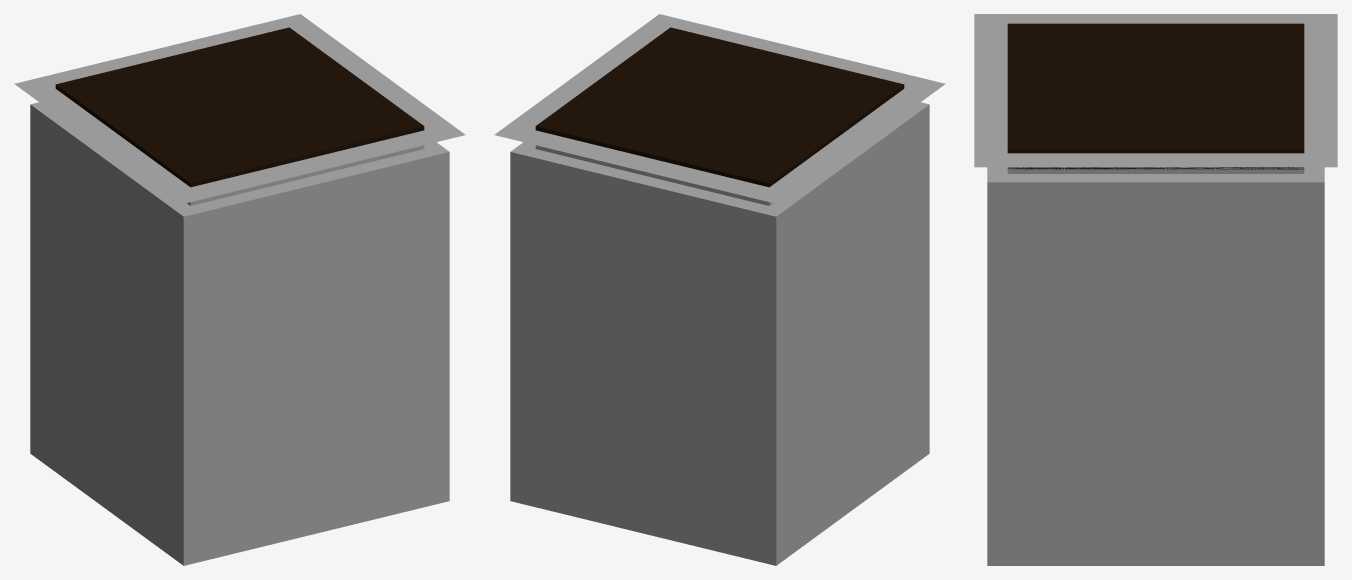
The model's file is trap_floor_pit.fbx.
The picture shows the model from 3 angles, left to right: view 1: azimuth 30°, elevation 25°; view 2: azimuth 150°, elevation 25°; view 3: azimuth 270°, elevation 25°; orthographic projection. The views are drawn at different scales.
Visible parts, largest first — view 1: pPlane2, doors1, doors; view 2: pPlane2, doors, doors1; view 3: pPlane2, doors, doors1.
Part boxes in pixels (bbox=[...]): pPlane2: bbox=[14, 14, 465, 565]; doors1: bbox=[123, 77, 424, 187]; doors: bbox=[55, 27, 356, 137]; pPlane2: bbox=[494, 14, 945, 565]; doors: bbox=[535, 77, 836, 187]; doors1: bbox=[603, 27, 904, 137]; pPlane2: bbox=[974, 14, 1337, 565]; doors: bbox=[1156, 23, 1304, 169]; doors1: bbox=[1007, 23, 1155, 169].
Bounding box in the file's own units: 400 × 497 × 400.
